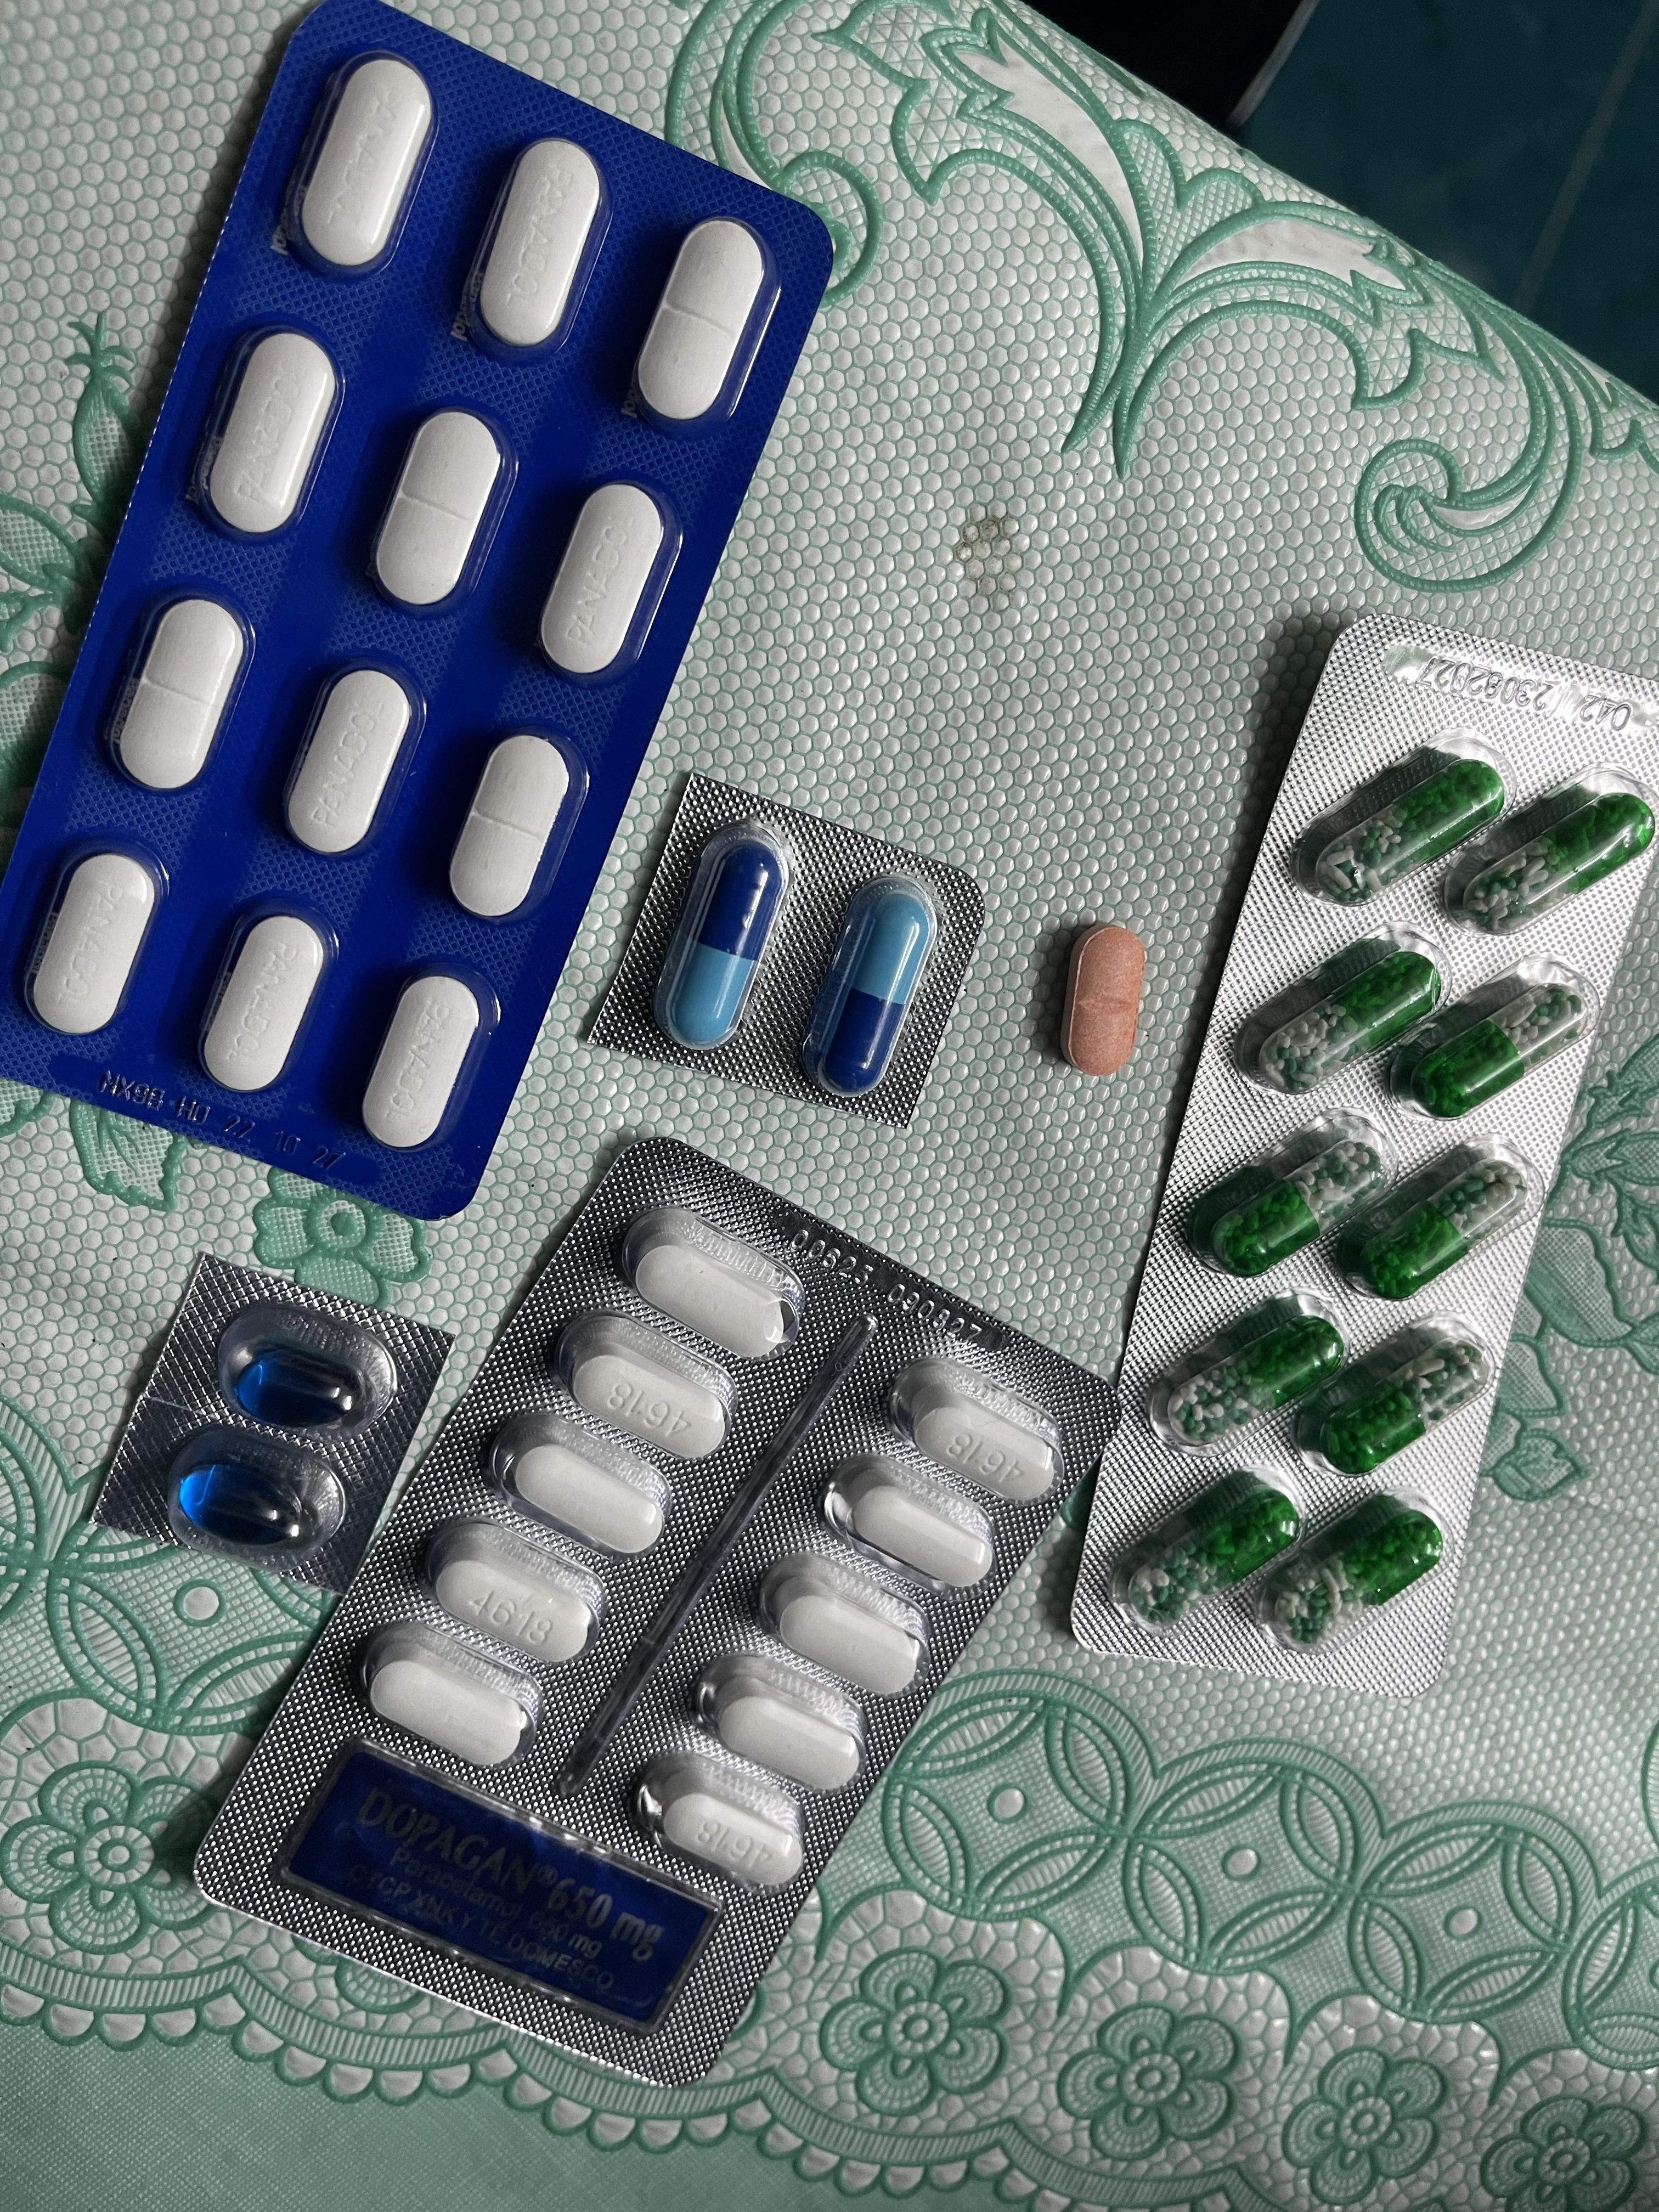Lincomyxin_500mg: (183, 1460, 310, 1550), (234, 1348, 362, 1432)
Loratadine_10mg: (1063, 927, 1141, 1078)
Paracetamol_350mg: (289, 49, 439, 280), (190, 327, 340, 547), (467, 138, 608, 361), (633, 218, 777, 434), (105, 590, 253, 796), (369, 408, 511, 618), (538, 482, 676, 688), (279, 664, 422, 857), (197, 902, 336, 1096), (24, 843, 162, 1038), (366, 965, 495, 1153), (450, 733, 579, 914)
Paracetamol_500mg: (558, 1313, 734, 1461), (760, 1555, 927, 1691), (830, 1458, 999, 1592), (634, 1247, 793, 1362), (368, 1658, 530, 1770), (507, 1442, 662, 1557), (437, 1561, 592, 1667), (709, 1686, 859, 1791), (659, 1791, 802, 1888), (920, 1407, 1051, 1503)
Paracetamol_650mg: (1291, 737, 1506, 906), (1243, 923, 1445, 1101), (1290, 1318, 1490, 1474), (1462, 789, 1656, 935), (1405, 982, 1586, 1123), (1354, 1151, 1527, 1292), (1222, 1136, 1389, 1277), (1270, 1500, 1439, 1639), (1166, 1313, 1337, 1447), (1133, 1484, 1290, 1622)
pill: (652, 815, 795, 1049), (807, 866, 943, 1092)
